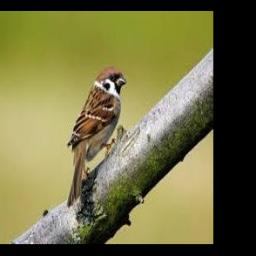Sparrow: (67, 67, 126, 207)
